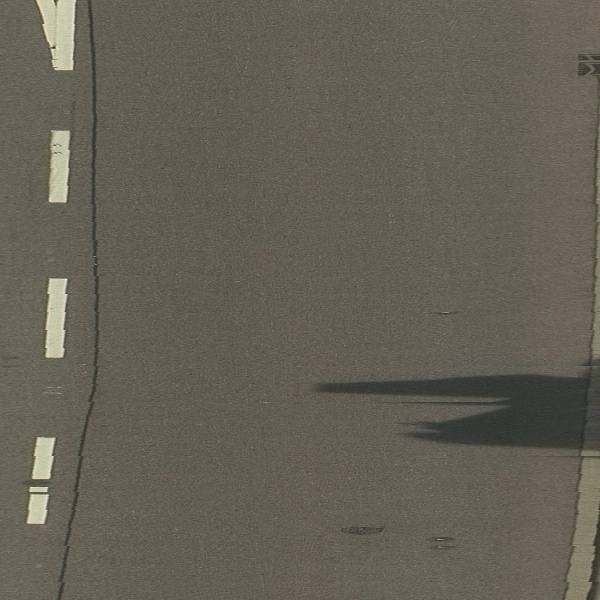road_damage: (333, 522, 394, 538), (422, 532, 462, 551)
